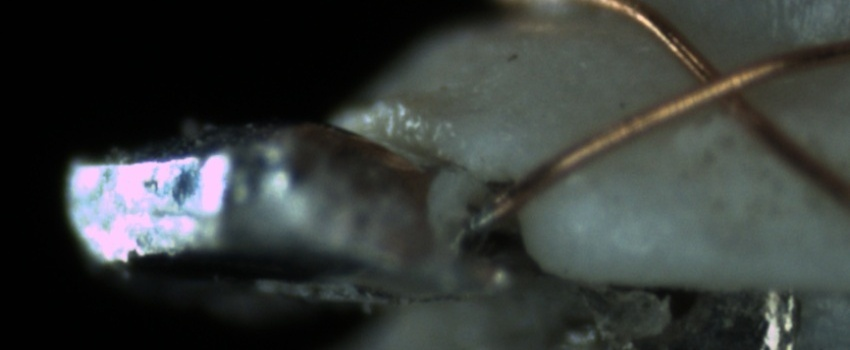CL: (675, 48, 772, 122)
